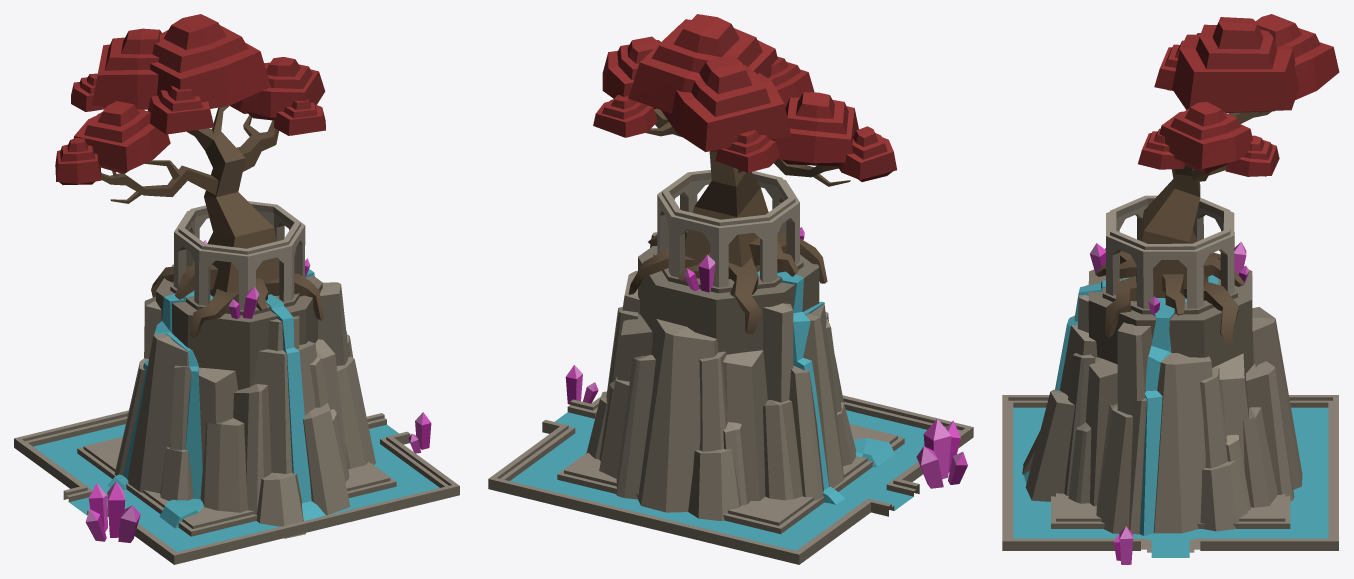
File: SF_Bld_Elven_Lifetree_01.fbx
3 views of the same model, side by side, from view 1: azimuth 30°, elevation 25°; view 2: azimuth 150°, elevation 25°; view 3: azimuth 270°, elevation 25° (orthographic). The views are drawn at different scales.
Visible parts, largest first — view 1: SF_Bld_Elven_Lifetree_01; view 2: SF_Bld_Elven_Lifetree_01; view 3: SF_Bld_Elven_Lifetree_01.
Part boxes in pixels (x1=…): SF_Bld_Elven_Lifetree_01: x1=14, y1=14, x2=459, y2=564; SF_Bld_Elven_Lifetree_01: x1=488, y1=14, x2=973, y2=564; SF_Bld_Elven_Lifetree_01: x1=1002, y1=14, x2=1339, y2=564.
Size of the model in its own units: 21.74 by 25.65 by 17.03.
